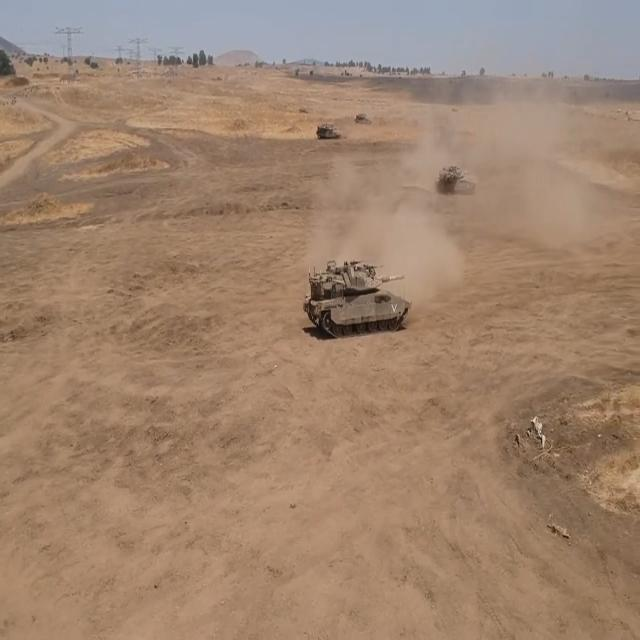tank: (304, 255, 418, 339), (432, 160, 479, 198), (314, 119, 349, 144), (354, 108, 370, 128)
